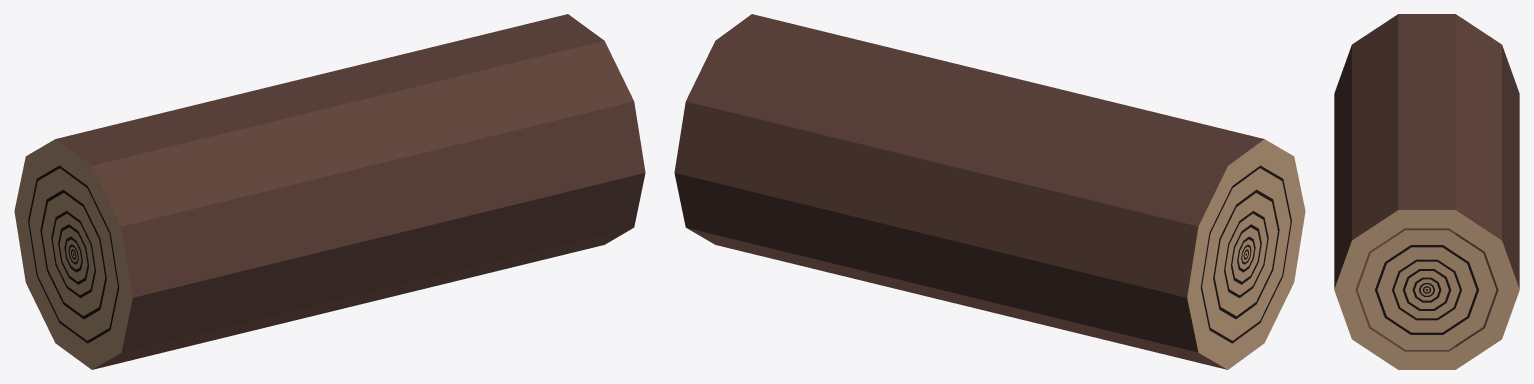
File: Log.fbx
The picture shows the model from 3 angles, left to right: view 1: azimuth 30°, elevation 25°; view 2: azimuth 150°, elevation 25°; view 3: azimuth 270°, elevation 25°; orthographic projection. The views are drawn at different scales.
Visible parts, largest first — view 1: Cylinder; view 2: Cylinder; view 3: Cylinder.
Part boxes in pixels (box(x1,y1,x2,y2)): Cylinder: box(14, 14, 645, 369); Cylinder: box(674, 14, 1305, 369); Cylinder: box(1334, 14, 1519, 369).
Size of the model in its own units: 500 by 190 by 200.
